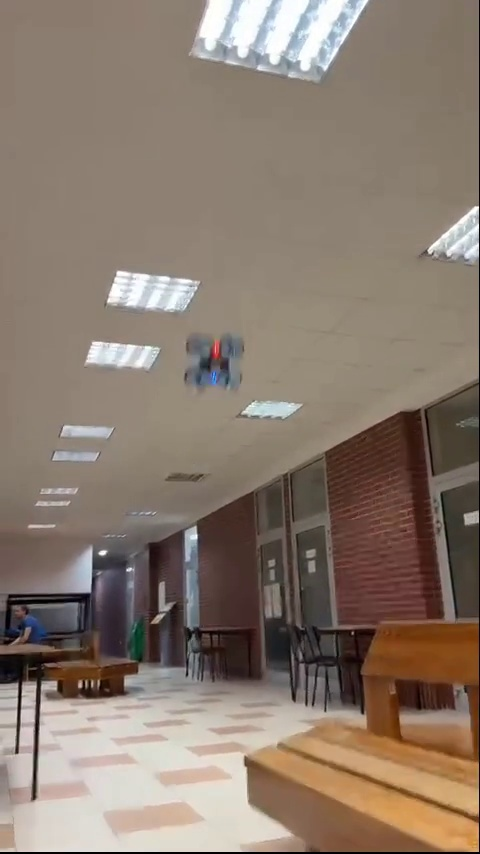drone: (183, 335, 246, 394)
no vest: (9, 604, 45, 650)
